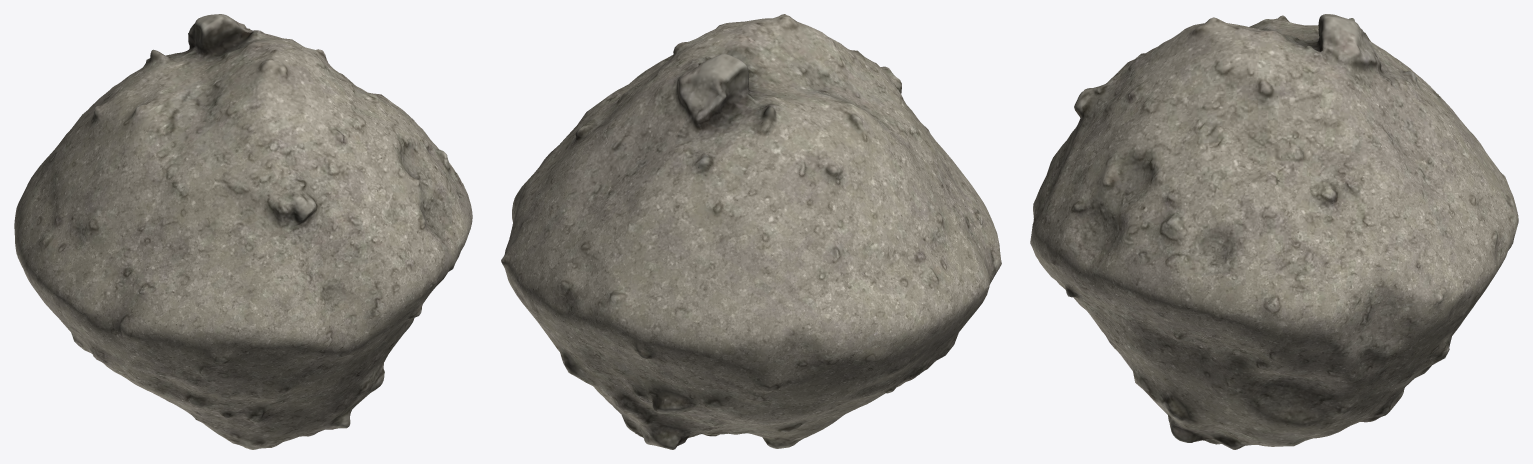
The model's file is ryugu.glb.
3 views of the same model, side by side, from view 1: azimuth 30°, elevation 25°; view 2: azimuth 150°, elevation 25°; view 3: azimuth 270°, elevation 25° (orthographic). The views are drawn at different scales.
Visible parts, largest first — view 1: Ryugu_LP; view 2: Ryugu_LP; view 3: Ryugu_LP.
Boxes of the visible parts, <box> form: Ryugu_LP: <box>14,14,472,449</box>; Ryugu_LP: <box>501,14,1001,449</box>; Ryugu_LP: <box>1030,14,1518,449</box>.
Bounding box in the file's own units: 2.27 × 2.15 × 2.27.
1 material, 1 textured.
